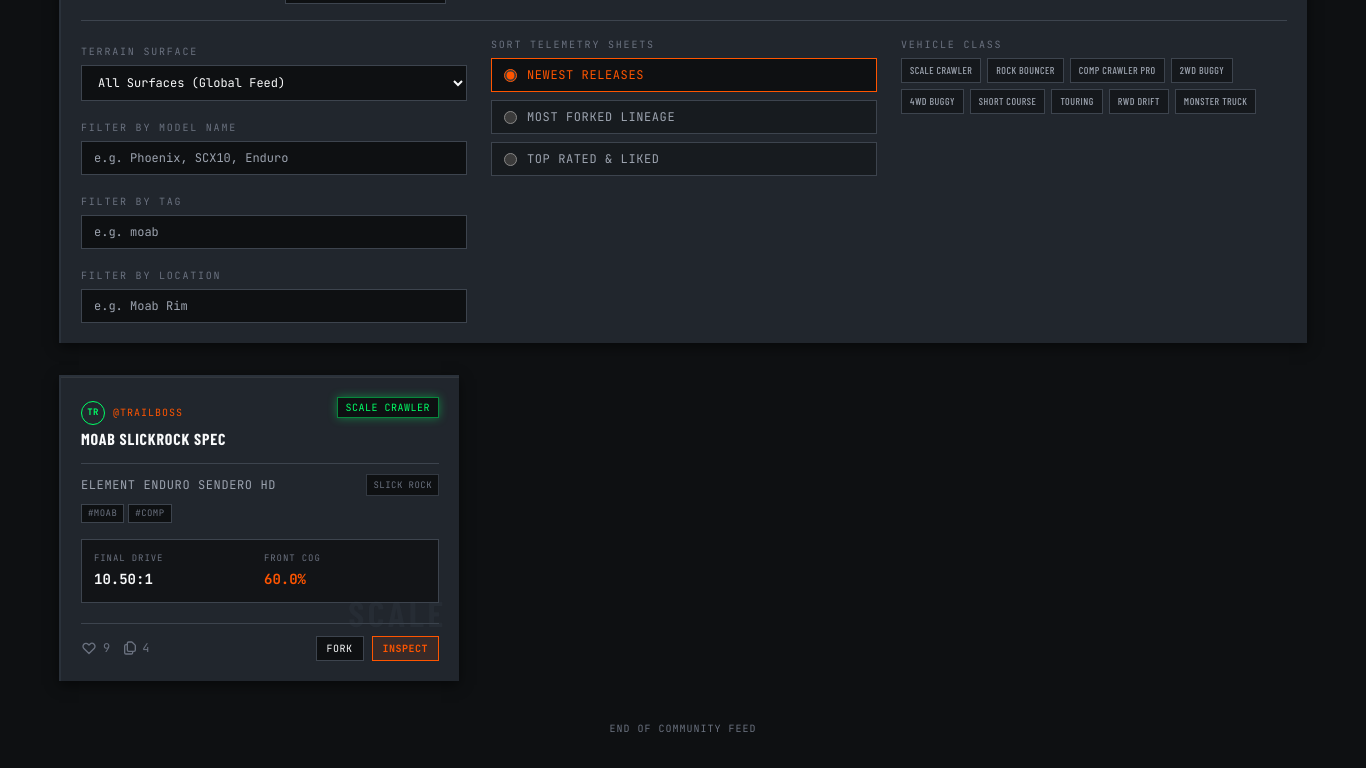
CommunityFeedWorkbench › allows authenticated driver to open fork modal
(page scrolled)
Click the button "Fork".
click(340, 648)  # box [316, 636, 364, 661]
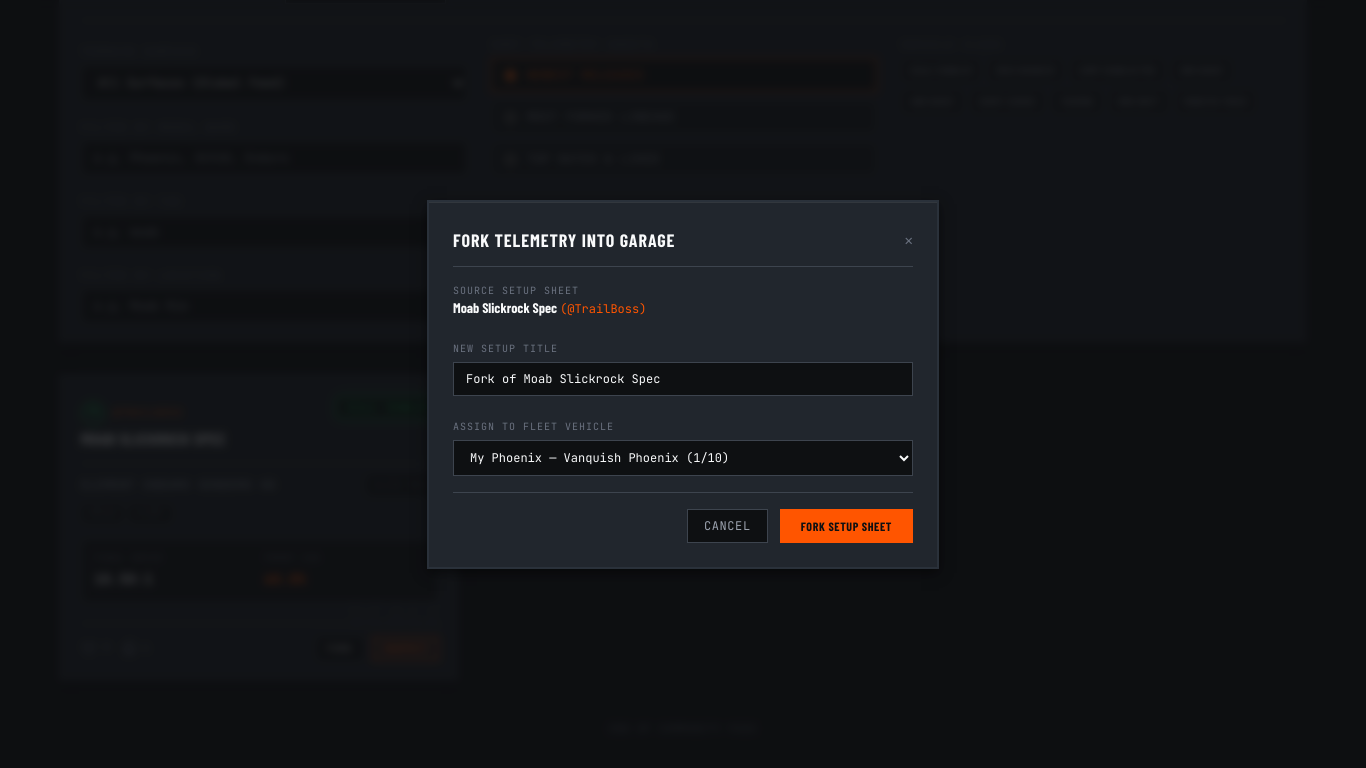
Expected: the heading "Fork Telemetry into Garage" is shown, [453, 226, 675, 254]
Expected: the field showing "Fork of Moab Slickrock Spec" is shown, [453, 362, 913, 396]
